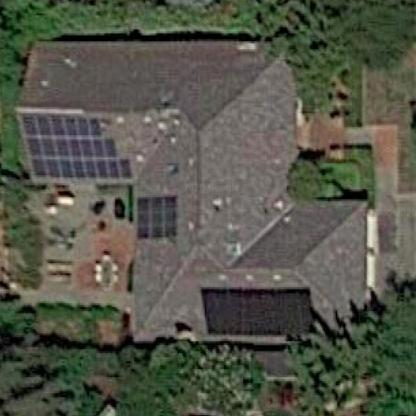solar_panel: (19, 100, 137, 183), (195, 278, 325, 342), (128, 188, 185, 250)
